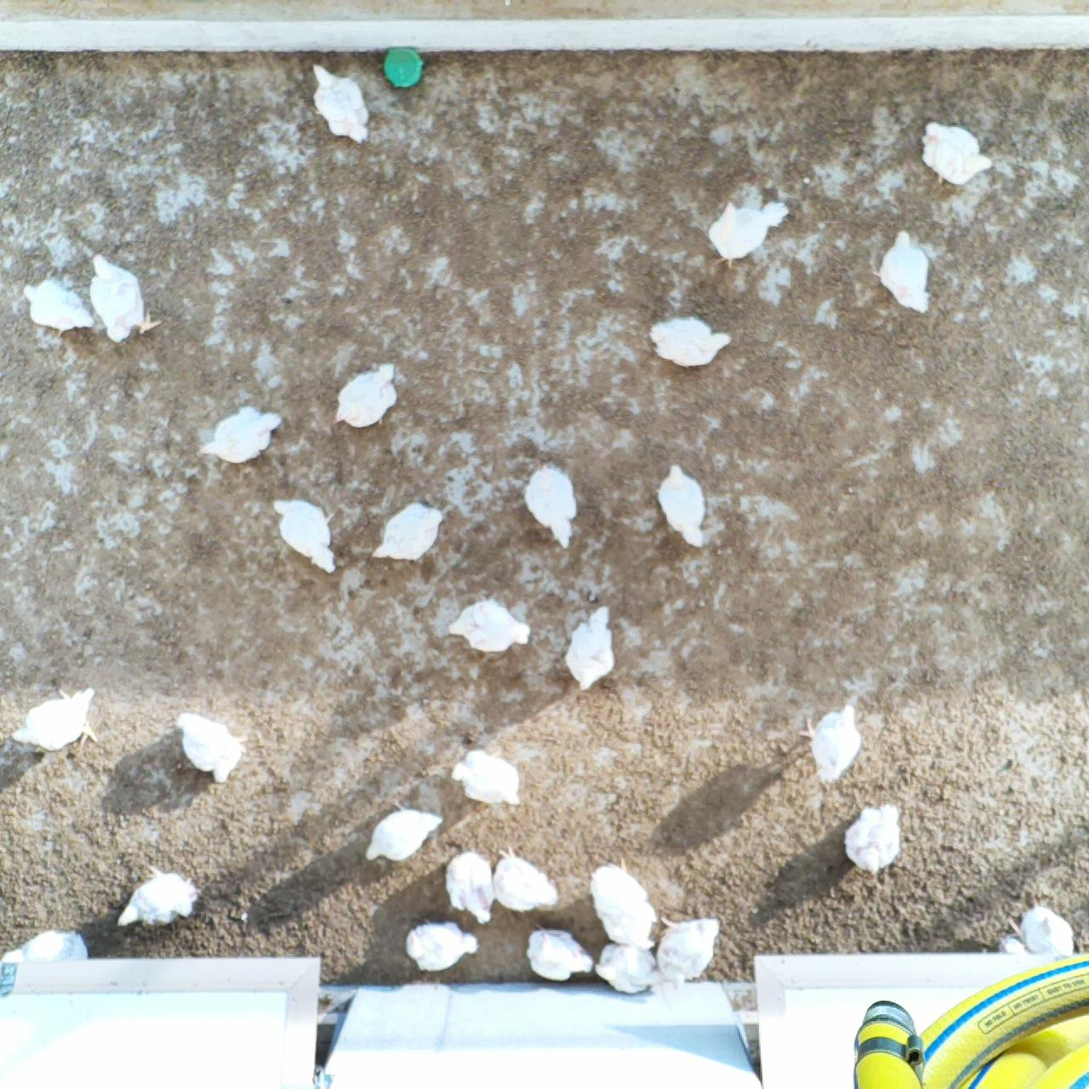chicken: (84, 251, 162, 343), (590, 855, 657, 953), (709, 198, 793, 276), (0, 926, 88, 999), (10, 681, 98, 753), (303, 60, 370, 146), (270, 493, 341, 573), (116, 862, 199, 930), (871, 225, 934, 314), (364, 798, 445, 867), (800, 701, 864, 787), (920, 119, 993, 190), (521, 461, 579, 550), (332, 360, 403, 432), (656, 914, 727, 986), (487, 844, 559, 914), (446, 598, 531, 657), (654, 459, 709, 549), (371, 500, 447, 565), (200, 405, 285, 462), (566, 602, 618, 695), (178, 710, 243, 784), (1005, 899, 1076, 966), (844, 801, 905, 877), (650, 315, 734, 370), (20, 276, 97, 335), (450, 746, 519, 809), (523, 924, 594, 985), (444, 851, 498, 928), (593, 936, 658, 998), (407, 920, 478, 973), (997, 931, 1035, 973)
